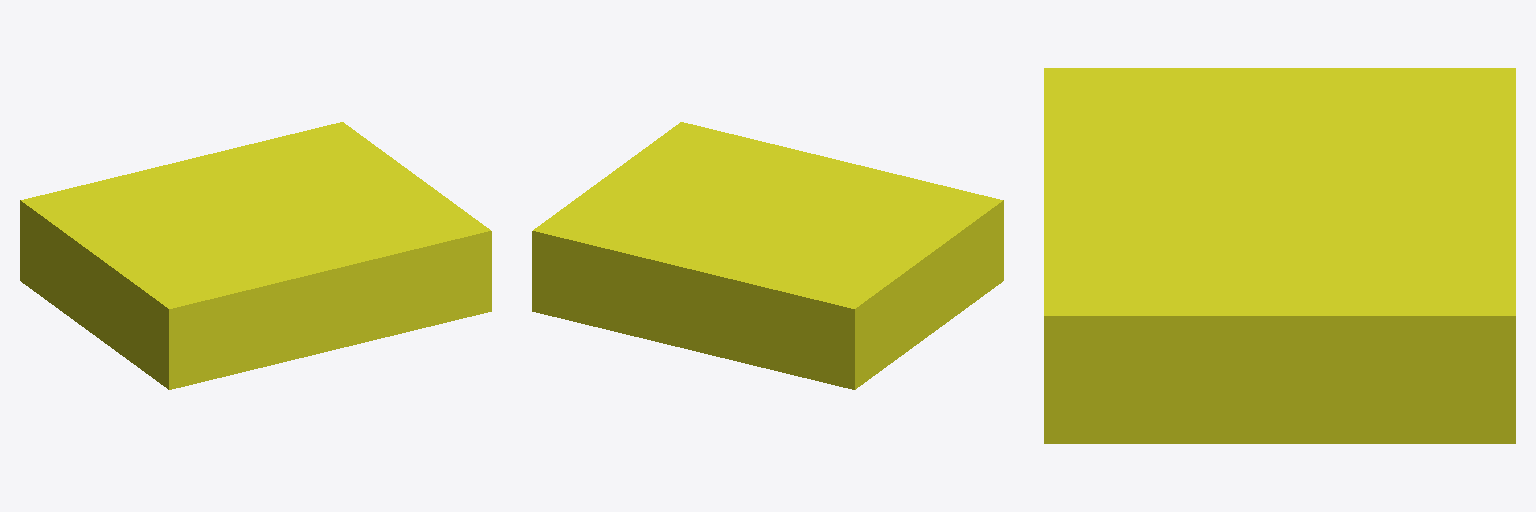
robot.urdf — nugget:
<robot name="nugget">
    <material name="yellow">
        <color rgba="0.9 0.9 0.2 1.0" />
    </material>

    <link name="base_link">
        <contact>
            <lateral_friction value="0.5" />
            <rolling_friction value="0.01" />
        </contact>
        <inertial>
            <origin rpy="0 0 0" xyz="0.0 0.0 0.0" />
            <mass value=".017" />
            <inertia ixx="0.0000029" iyy="0.0000068" izz="0.0000044" ixy="0" ixz="0" iyz="0"/>
        </inertial>
        <visual>
            <origin rpy="0 0 0" xyz="0 0 0" />
            <geometry>
                <box size="0.05 0.04 0.012"/>
            </geometry>
            <material name="yellow" />
        </visual>
        <collision>
            <origin rpy="0 0 0" xyz="0 0 0" />
            <geometry>
                <box size="0.05 0.04 0.012"/>
            </geometry>
        </collision>
    </link>
</robot>
<!-- 
<robot name="nugget">
    <material name="yellow">
        <color rgba="0.9 0.9 0.2 1.0" />
    </material>

    <link name="base_link">
        <contact>
            <lateral_friction value="0.5" />
            <rolling_friction value="0.01" />
        </contact>
        <inertial>
            <origin rpy="0 0 0" xyz="0.0 0.0 0.0" />
            <mass value=".02" />
            <inertia ixx="0.0000001" iyy="0.0000001" izz="0.0000001" ixy="0" ixz="0" iyz="0"/>
        </inertial>
        <visual>
            <origin rpy="0 0 0" xyz="0 0 0" />
            <geometry>
                <mesh filename="package://scene/nugget_1.stl" sc ale="0.001 0.001 0.001"/>
            </geometry>
            <material name="yellow" />
        </visual>
        <collision>
            <origin rpy="0 0 0" xyz="0 0 0" />
            <geometry>
                <mesh filename="package://scene/nugget_1.stl" scale="0.001 0.001 0.001"/>
            </geometry>
        </collision>
    </link>
</robot> -->

--- Render facts (derived) ---
The picture shows the robot from 3 angles, left to right: view 1: azimuth 30°, elevation 25°; view 2: azimuth 150°, elevation 25°; view 3: azimuth 270°, elevation 25°; orthographic projection.
Robot: nugget — 1 links, 0 joints (none); root link base_link; default pose: all joints at 0.
Links seen in each view (by area): view 1: base_link; view 2: base_link; view 3: base_link.
Link boxes in pixels (x1,y1,x2,y2): base_link: (20, 122, 491, 389); base_link: (532, 122, 1003, 389); base_link: (1044, 68, 1515, 443).
Bounding box of the posed robot: 0.05 × 0.04 × 0.012 m (x, y, z).
Geometry: primitives only (box / cylinder / sphere), no mesh files.